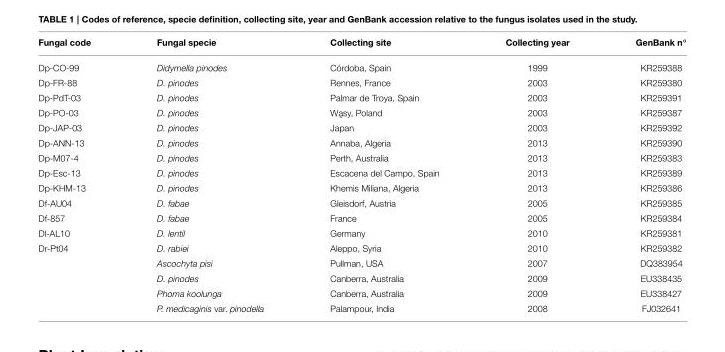table: (37, 37, 685, 312)
table column: (296, 37, 471, 312), (123, 37, 296, 312), (471, 37, 601, 312), (37, 37, 123, 312), (601, 37, 685, 312)
table column header: (37, 37, 685, 54)
table row: (37, 54, 685, 75), (37, 37, 685, 54), (37, 75, 685, 90), (37, 90, 685, 105), (37, 105, 685, 120), (37, 120, 685, 135), (37, 135, 685, 150), (37, 150, 685, 165), (37, 165, 685, 180), (37, 180, 685, 195), (37, 195, 685, 210), (37, 210, 685, 225), (37, 225, 685, 240), (37, 240, 685, 255), (37, 255, 685, 270), (37, 270, 685, 285), (37, 285, 685, 300), (37, 300, 685, 312)
table spanning cell: (37, 240, 123, 312)
